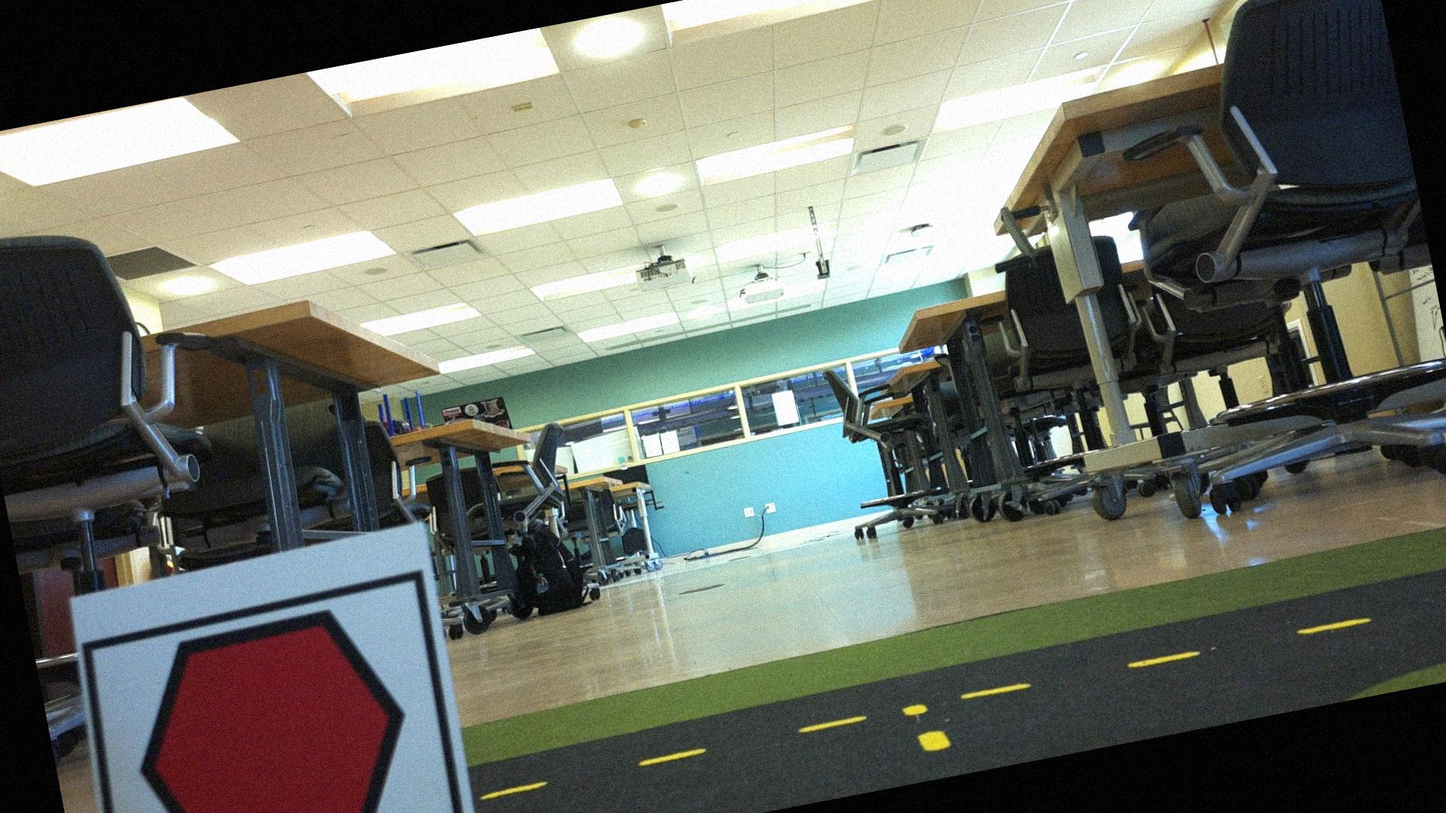stop: (97, 589, 447, 812)
yellowline: (484, 593, 1445, 801), (901, 695, 954, 759)
